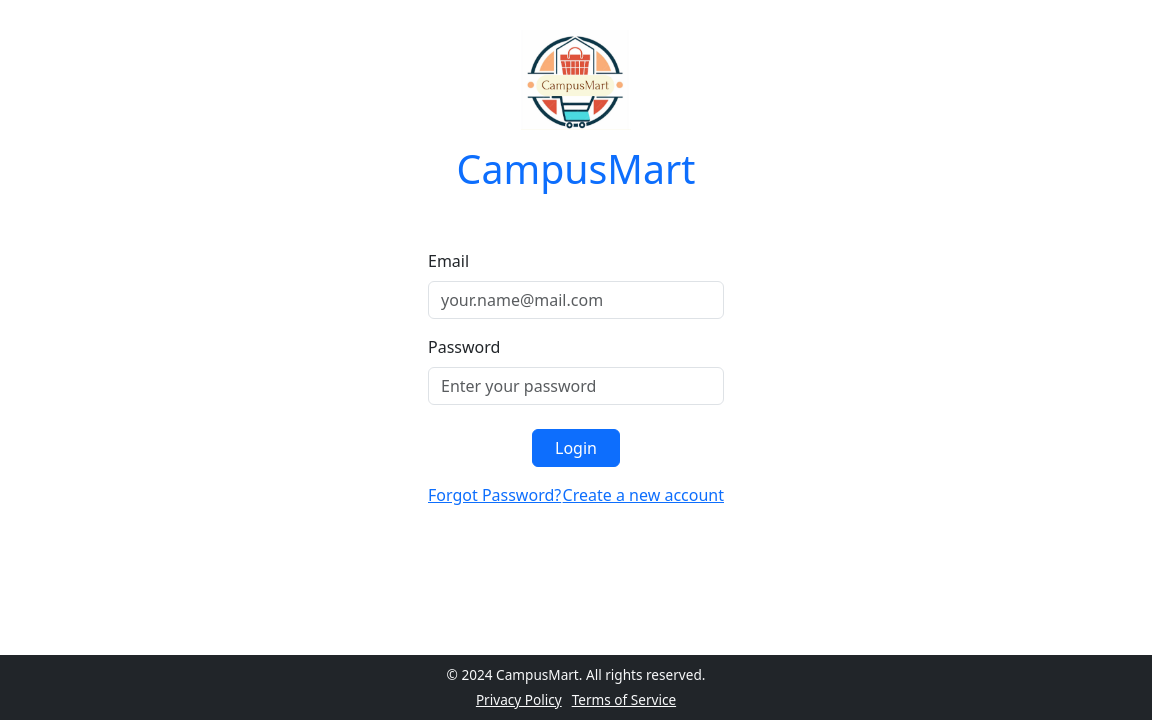
Test: Login Form › should display an error message when invalid credentials are provided
In the field labelled "Email": (576,300) [428,281,724,319], type "test@invalid.com"
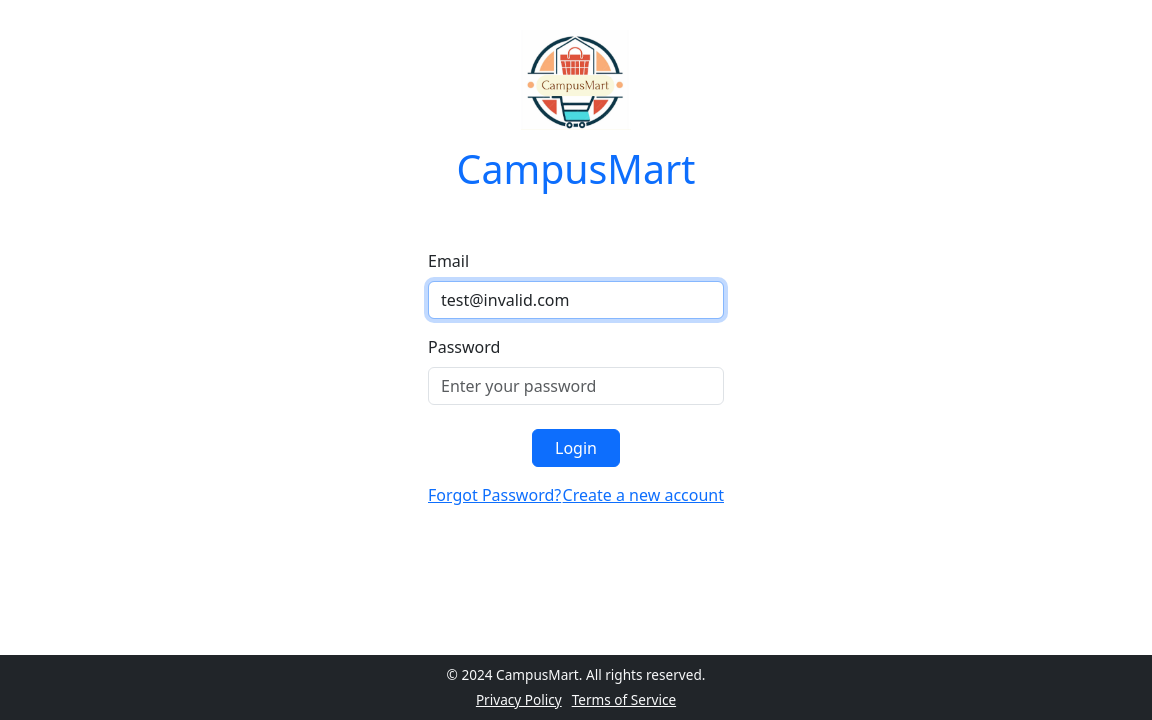
In the password field labelled "Password": (576,386) [428,367,724,405], type "incorrectpassword"
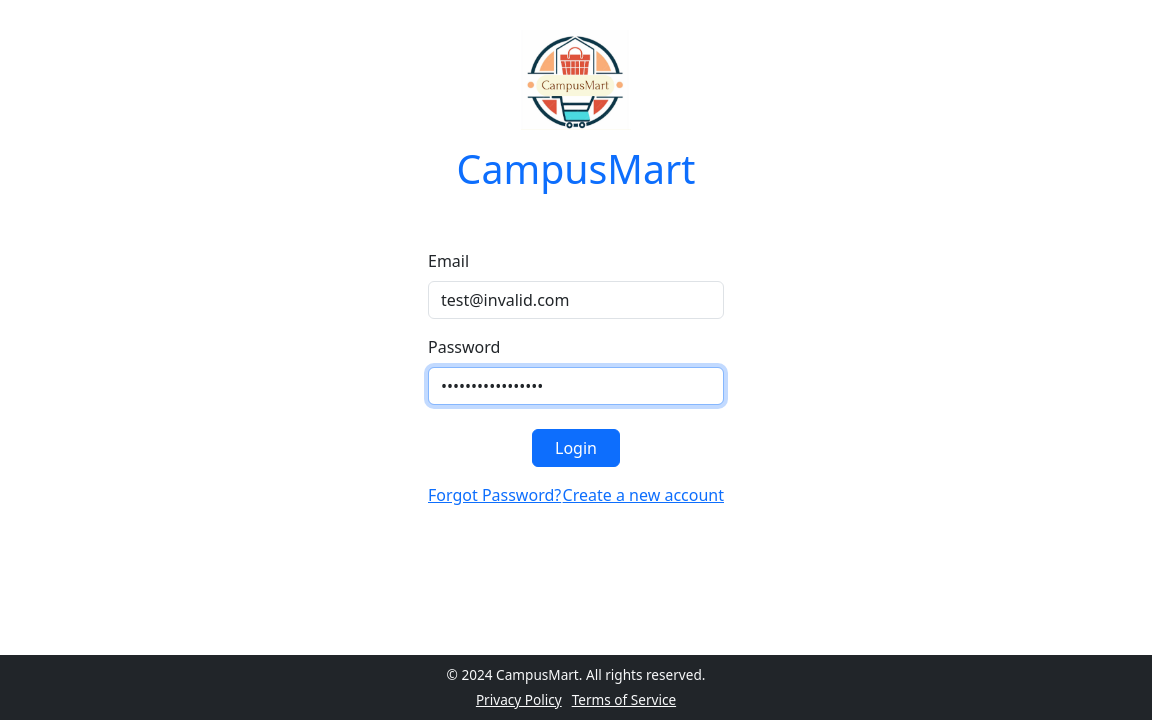
Click the submit button: (577,448) [532,429,621,467]
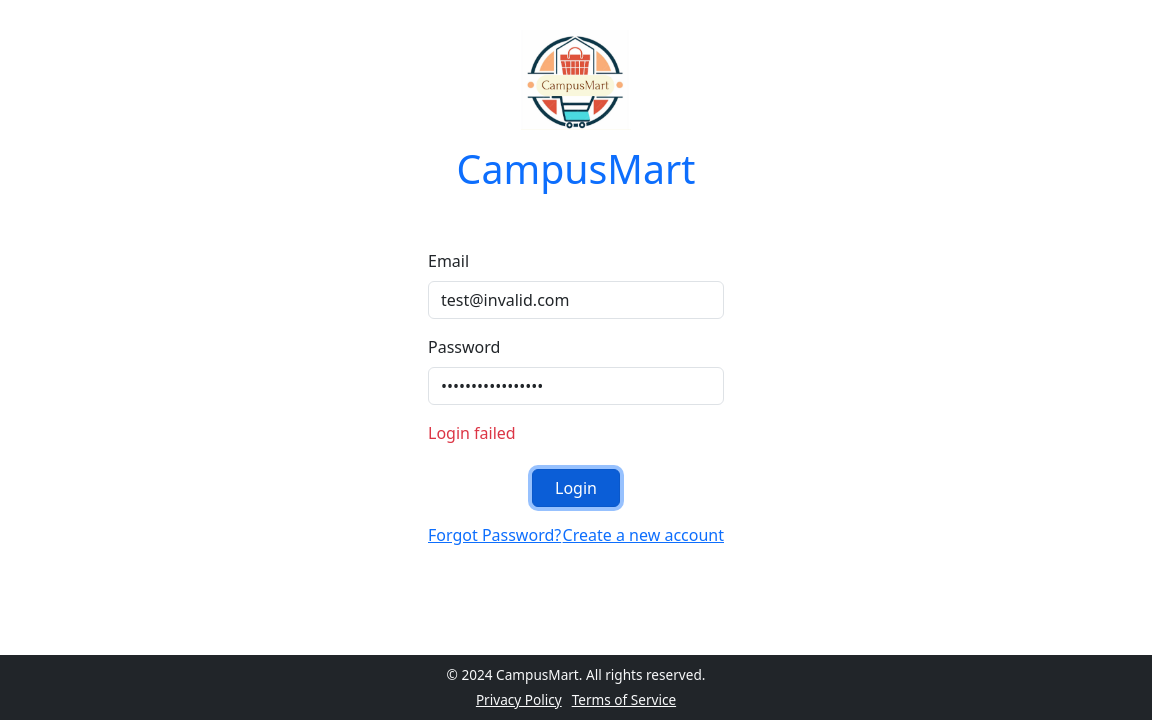
Now the text "Login failed" is shown, box [428,422,516,444]
